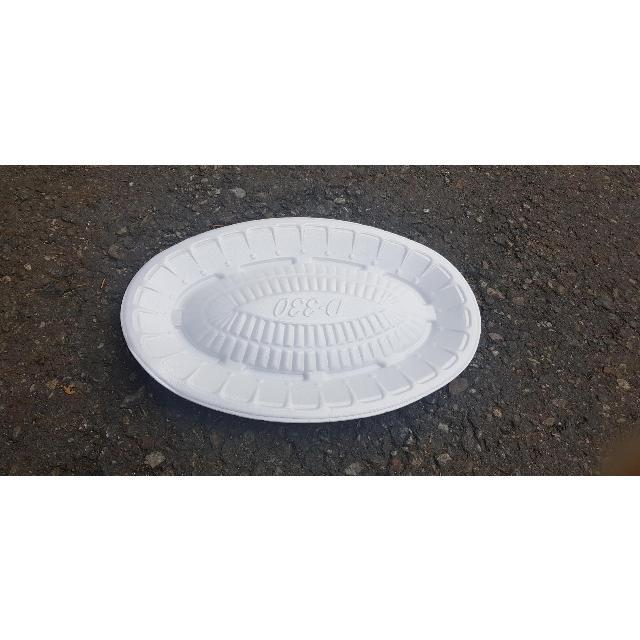Plastico descartable: (120, 218, 483, 424)
